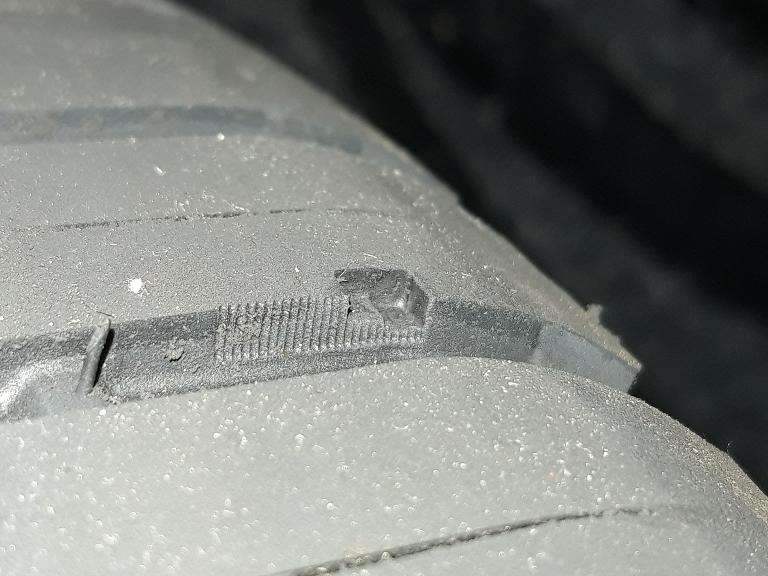temoin:50: (293, 262, 444, 363)
